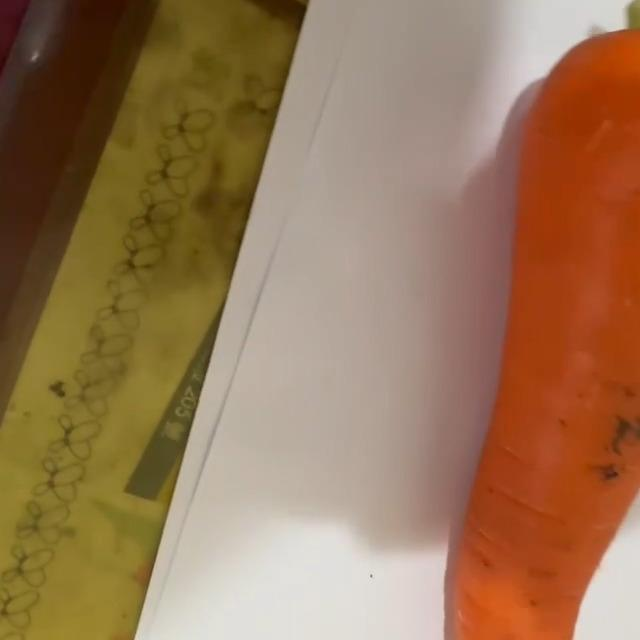carrot: (448, 1, 640, 640)
